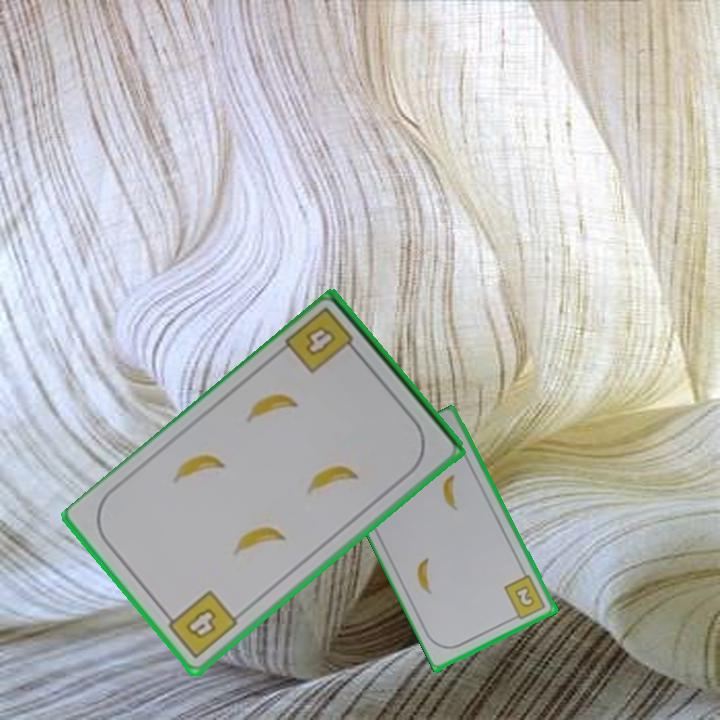2b: (501, 572, 549, 623)
4b: (160, 586, 241, 662), (282, 303, 363, 377)
